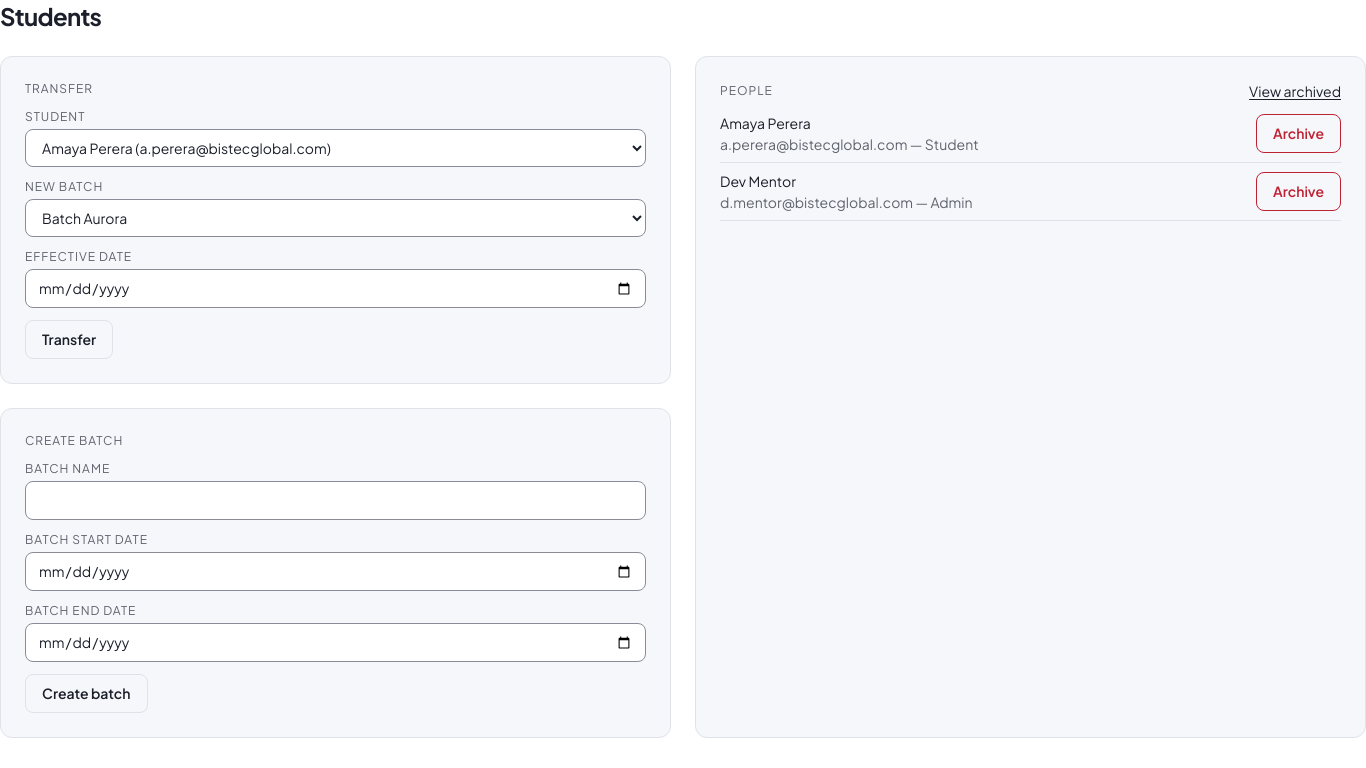
it: StudentsPage › surfaces a successful batch creation with a role=status success line
Type "Batch Bramble" into the field labelled "Batch name" at (336, 500), box [25, 481, 646, 520]
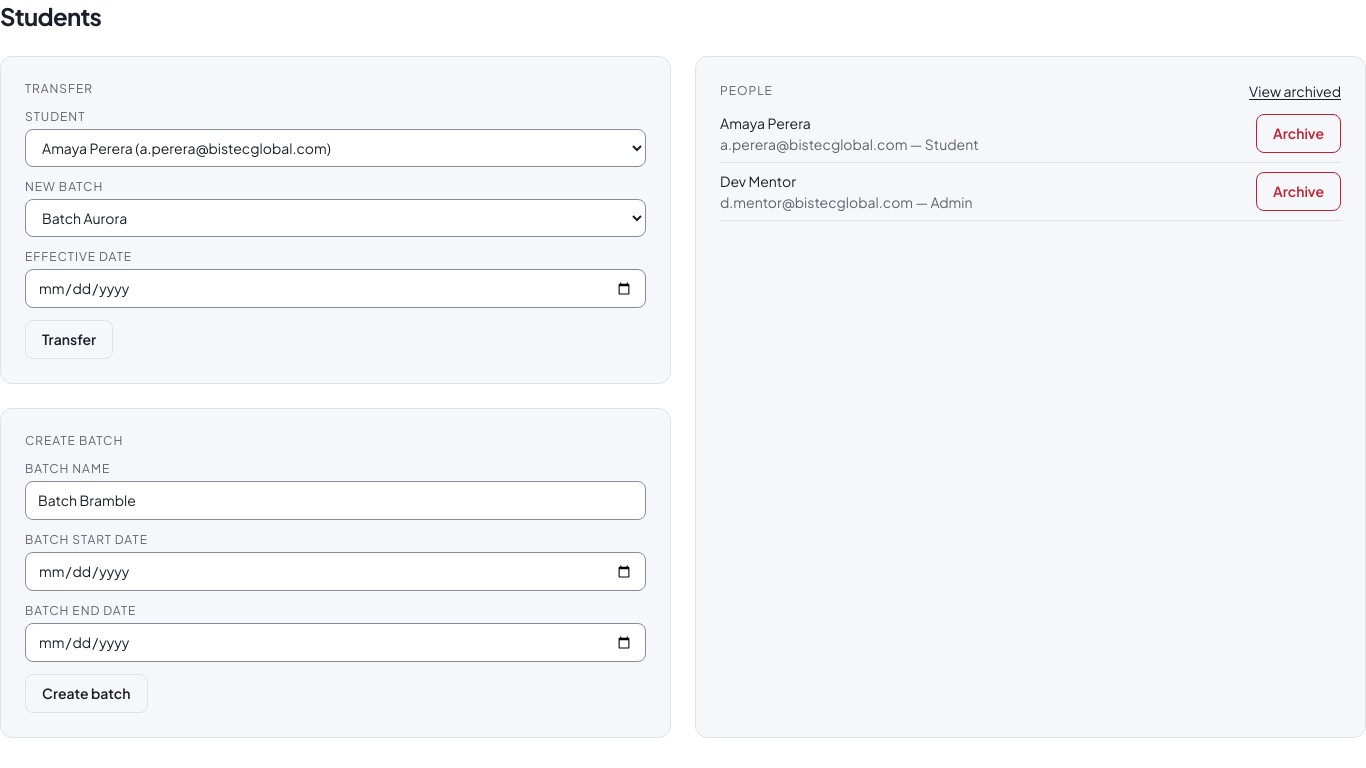
Type "2026-09-10" into the date field labelled "Batch start date" at (336, 572), box [25, 552, 646, 591]
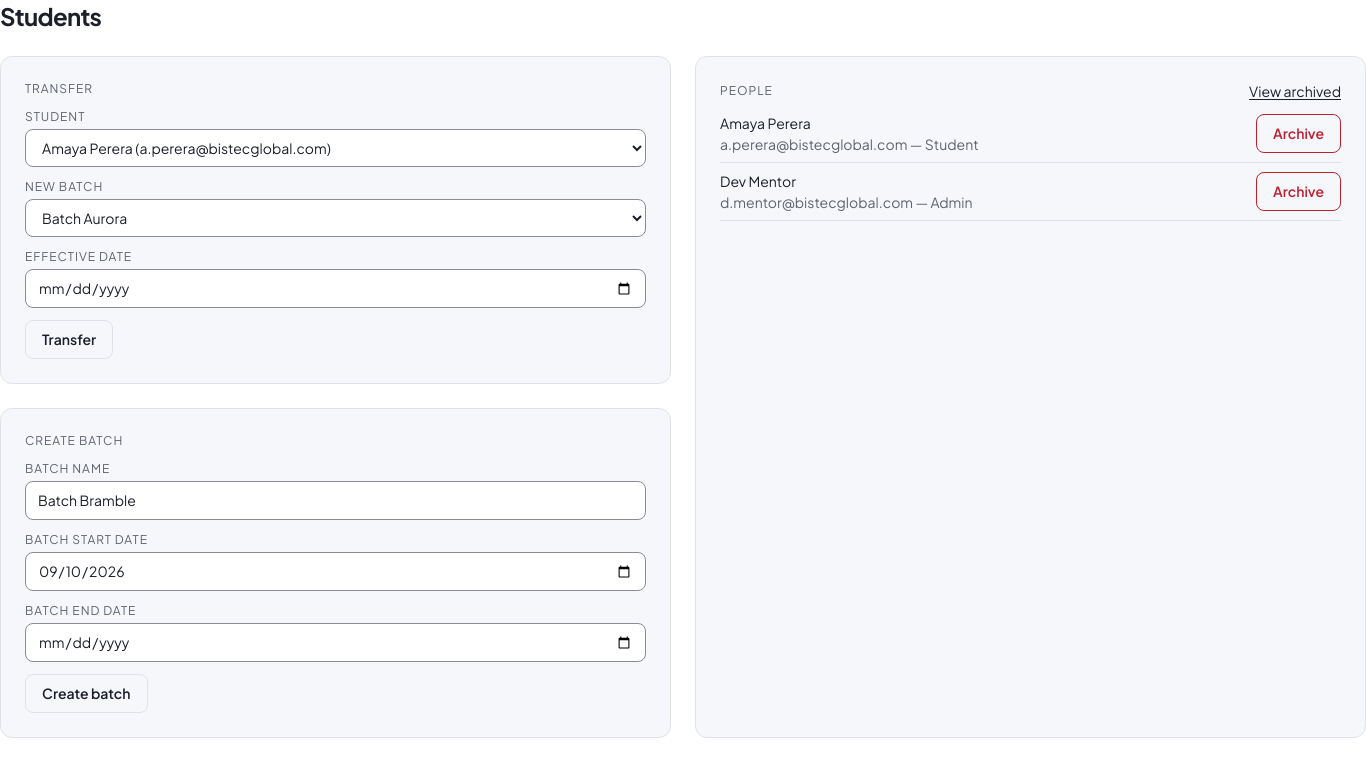
Type "2027-03-09" into the date field labelled "Batch end date" at (336, 642), box [25, 623, 646, 662]
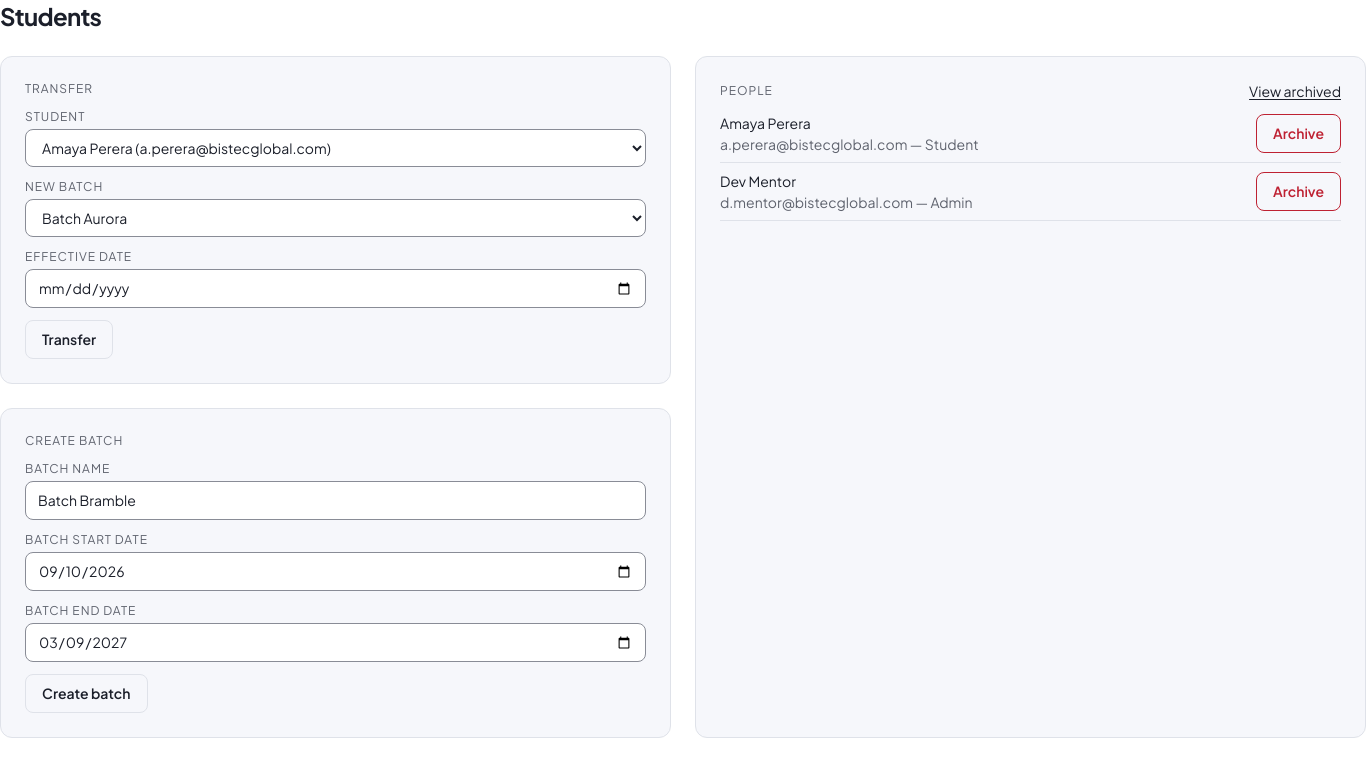
Click the button "Create batch" at (86, 694), box [25, 674, 148, 713]
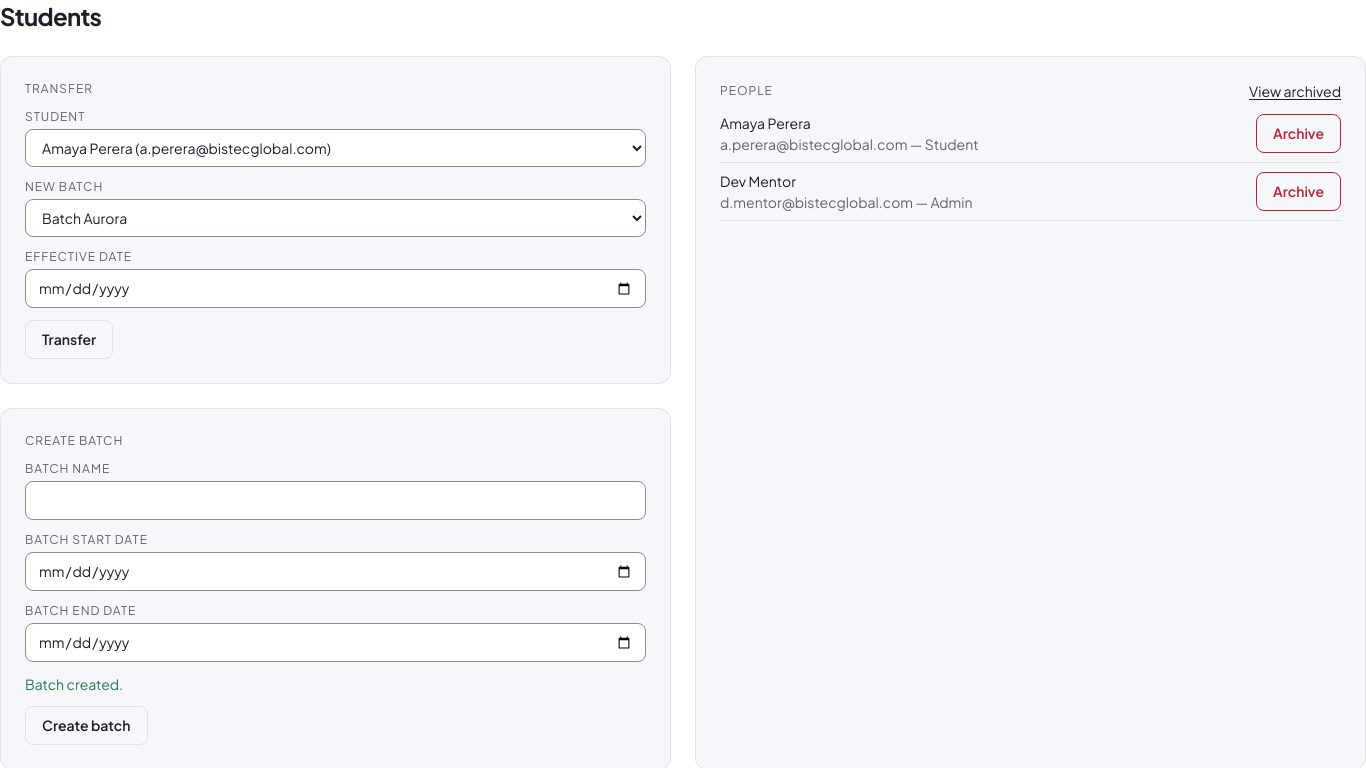
Expected: the message reads "Batch created.", [25, 675, 123, 693]
